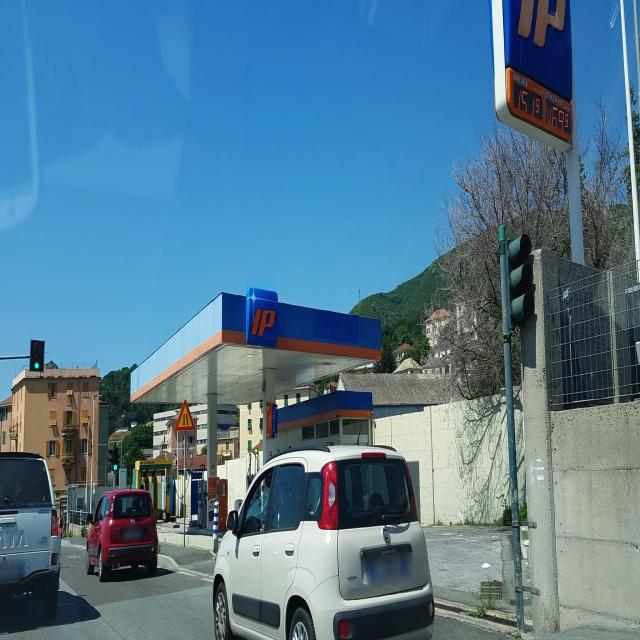car: (211, 436, 435, 640), (0, 448, 62, 624), (85, 487, 159, 581)
